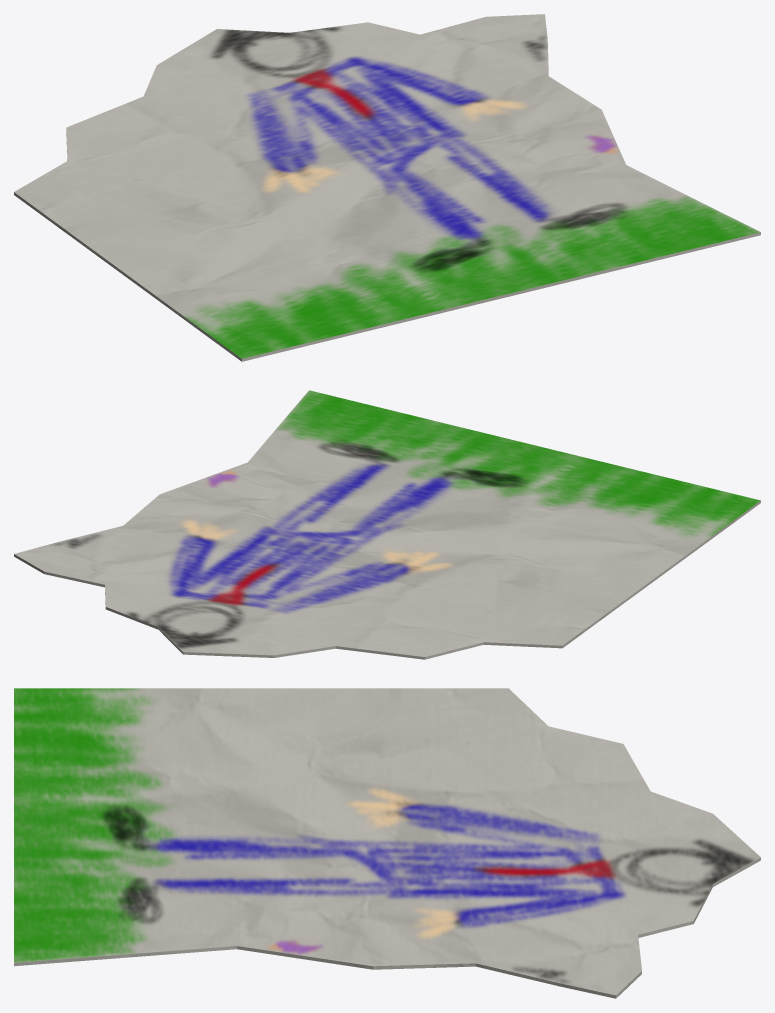
The model's file is DrawingFragments2.fbx.
3 renders of one model, top to bottom at view 1: azimuth 30°, elevation 25°; view 2: azimuth 150°, elevation 25°; view 3: azimuth 270°, elevation 25°, orthographic. The views are drawn at different scales.
Parts seen in each view (by area): view 1: Fragment_2; view 2: Fragment_2; view 3: Fragment_2.
Part boxes in pixels (x1,y1,x2,y2): Fragment_2: [14, 14, 760, 361]; Fragment_2: [14, 390, 760, 659]; Fragment_2: [14, 688, 760, 998].
Bounding box in the file's own units: 247 × 1.34 × 254.
